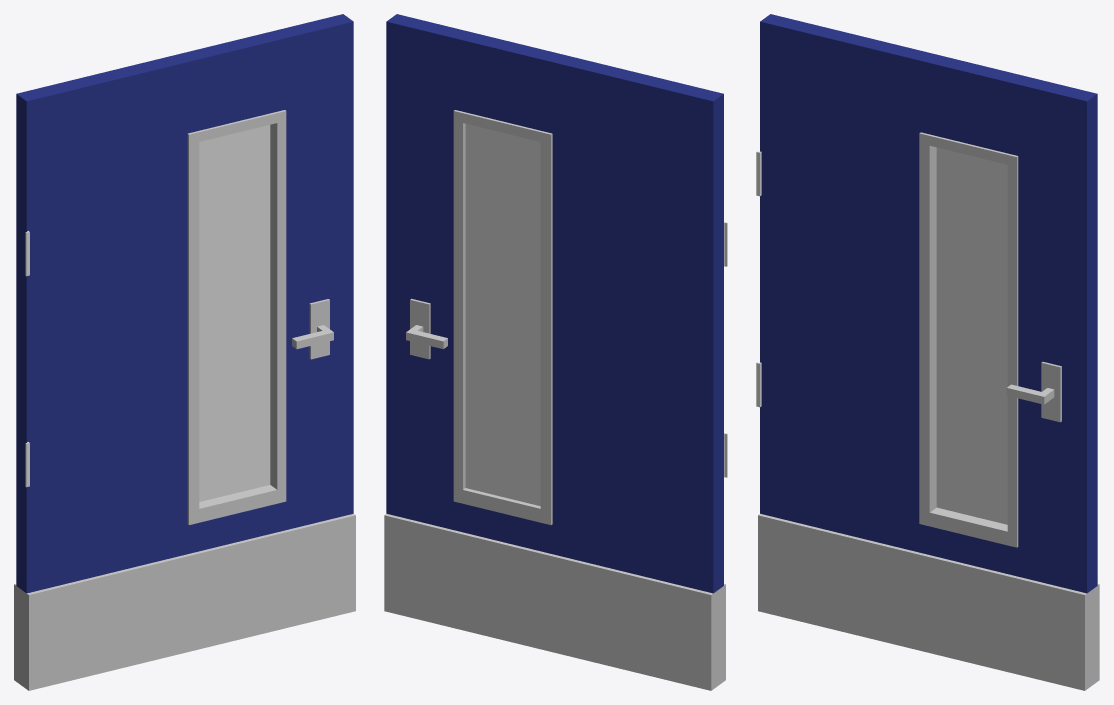
Rendered from door.fbx.
3 views of the same model, side by side, from view 1: azimuth 30°, elevation 25°; view 2: azimuth 150°, elevation 25°; view 3: azimuth 330°, elevation 25° (orthographic).
Visible parts, largest first — view 1: H_Door; view 2: H_Door; view 3: H_Door.
Part boxes in pixels (x1,y1,x2,y2): H_Door: (14, 14, 355, 690); H_Door: (384, 14, 727, 690); H_Door: (756, 14, 1099, 690).
Bounding box in the file's own units: 681 × 1163 × 121.
